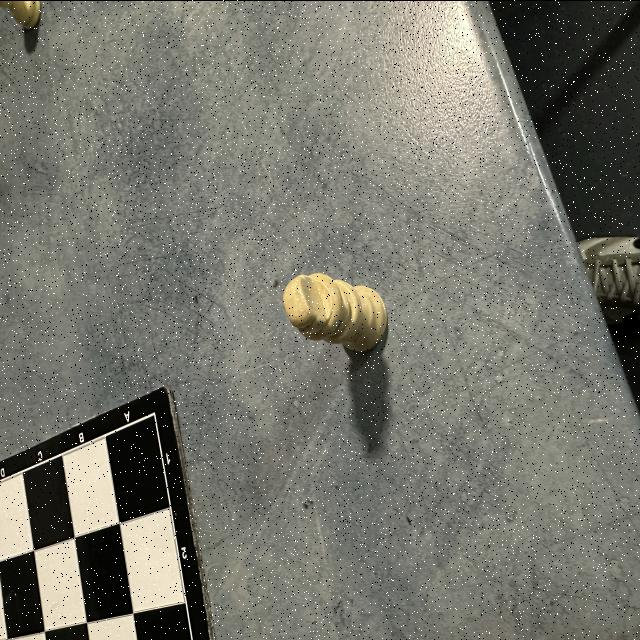White-King: (284, 272, 386, 352)
